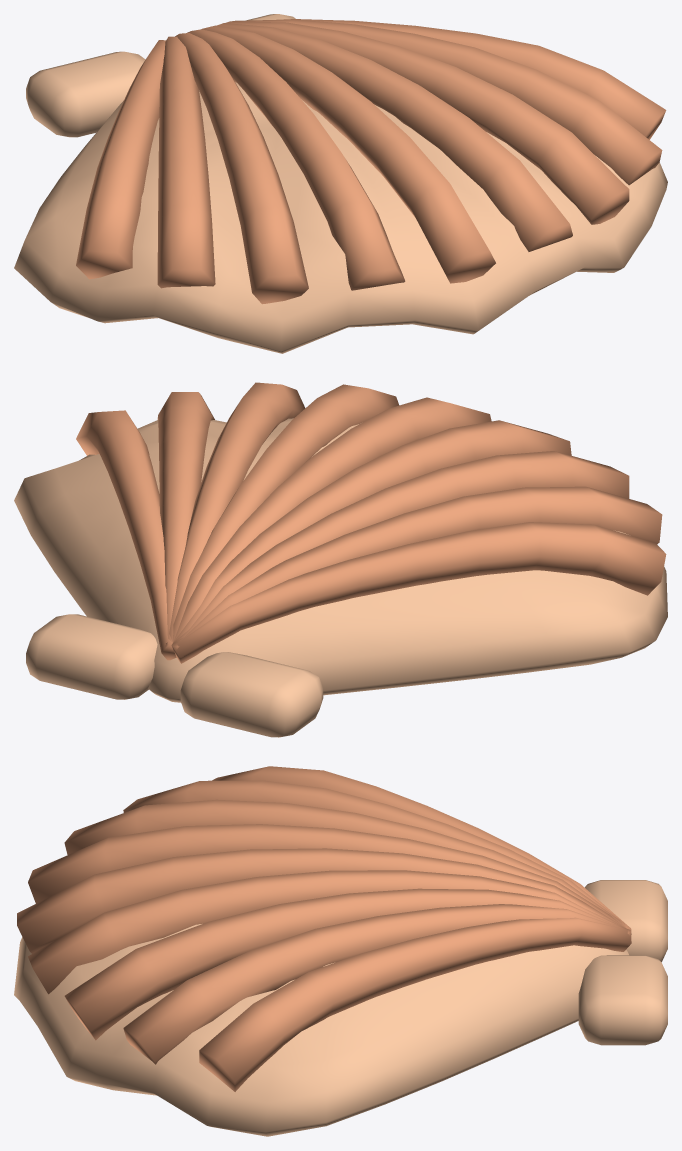
The model's file is shell-scallop.glb.
3 renders of one model, top to bottom at view 1: azimuth 30°, elevation 25°; view 2: azimuth 150°, elevation 25°; view 3: azimuth 270°, elevation 25°, orthographic.
Visible parts, largest first — view 1: shell; view 2: shell; view 3: shell.
Part boxes in pixels (x1,y1,x2,y2): shell: (14,14,667,353); shell: (14,382,667,737); shell: (14,766,667,1136).
Size of the model in its own units: 0.32 by 0.0818 by 0.293.
